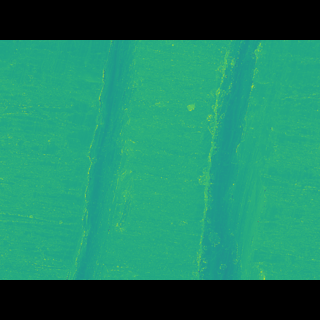Loch: (0, 69, 144, 250), (190, 69, 320, 250)
